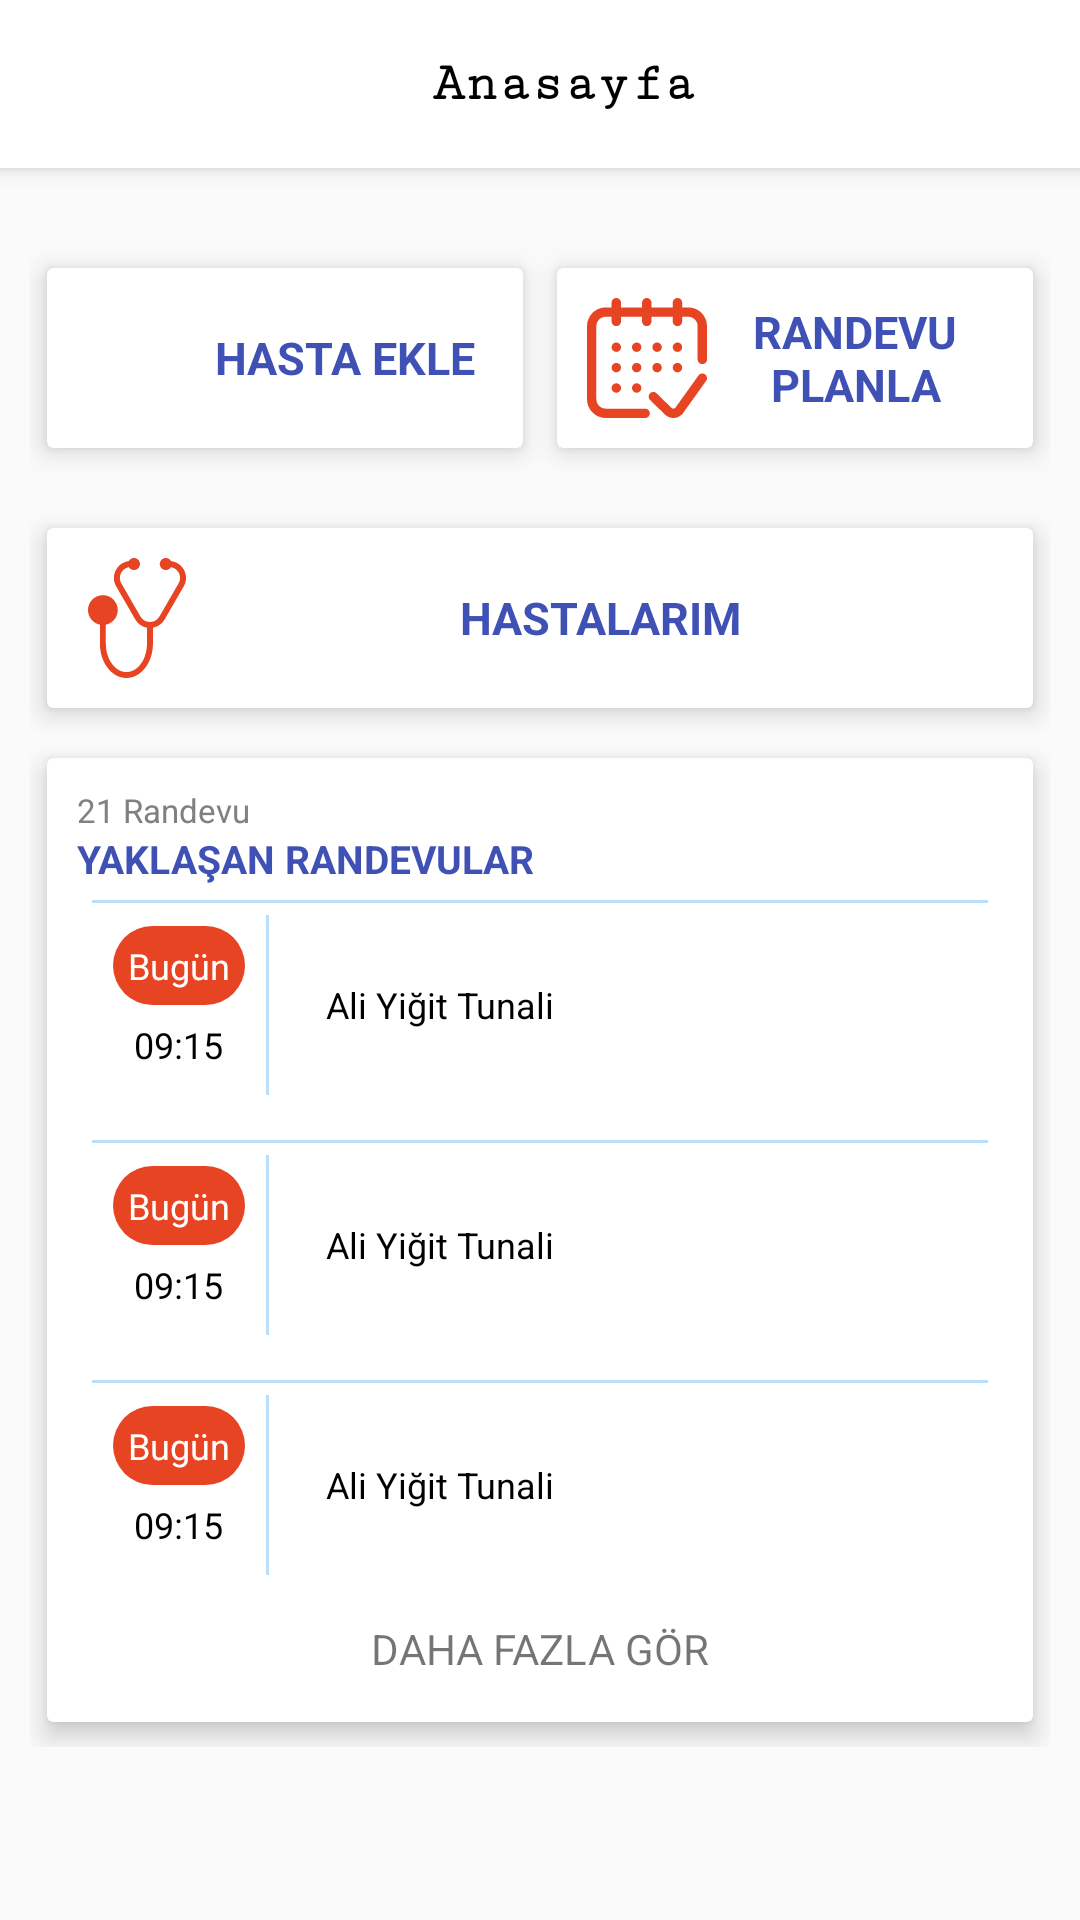

Icons on this 1080px×1920px Android screen, each with its box as (x1, y1, x2, y2):
calendar: (587, 298, 707, 418)
doctor stethoscope: (88, 558, 186, 678)
